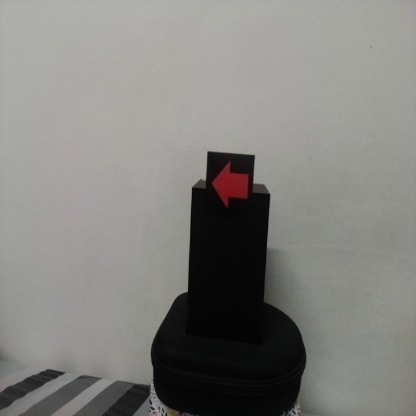id_4: (207, 153, 254, 224)
